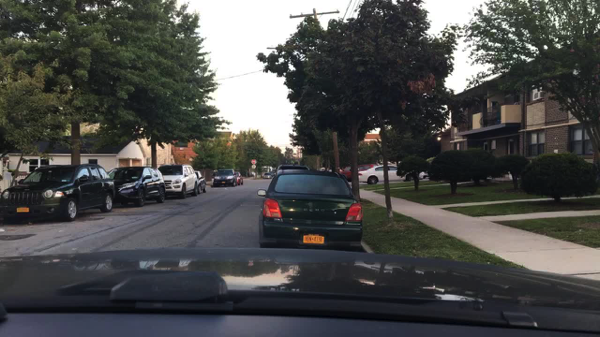car: (257, 170, 364, 248), (0, 162, 116, 225), (106, 165, 166, 207), (352, 162, 427, 184), (158, 163, 199, 199), (337, 163, 374, 181), (212, 169, 237, 187), (192, 170, 207, 192), (278, 164, 310, 173), (234, 171, 244, 185), (318, 166, 329, 173), (263, 172, 272, 180), (271, 171, 275, 176)
traffic sign: (250, 158, 257, 165), (250, 164, 257, 169)
